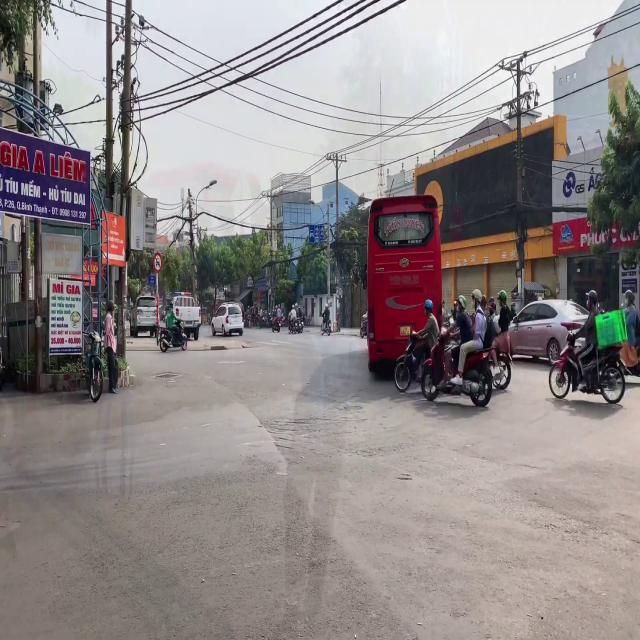bien_vang: (399, 326, 411, 336)
